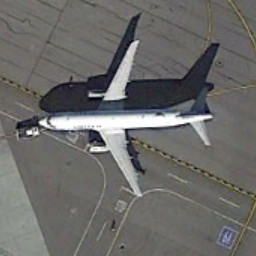Airplane: (31, 28, 221, 205)
